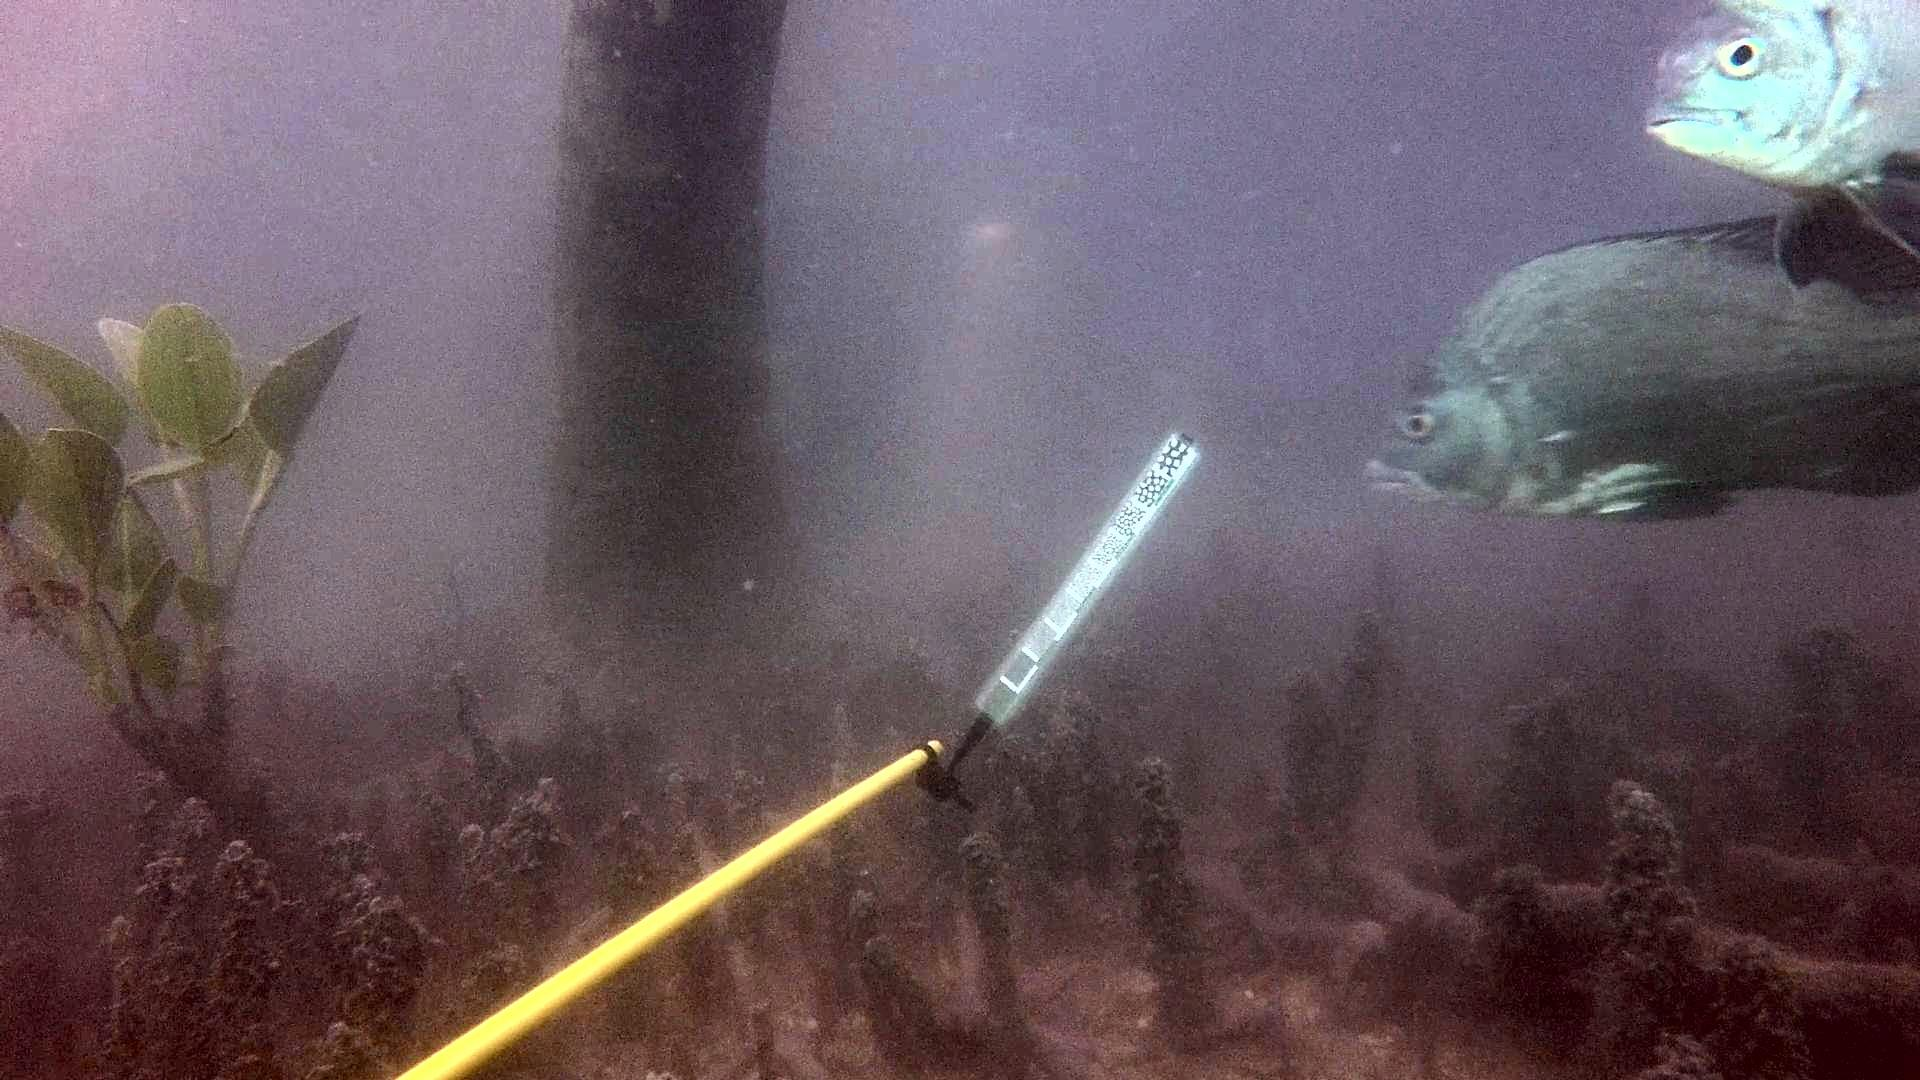acanthopagrus palmaris: (1359, 185, 1918, 528), (1623, 0, 1920, 298)
